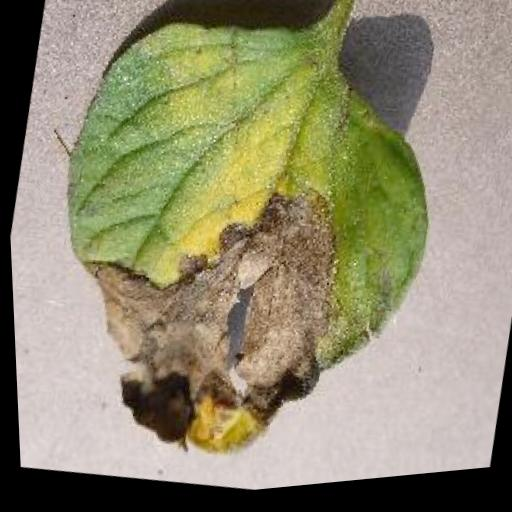Late Blight: (3, 0, 468, 508)
